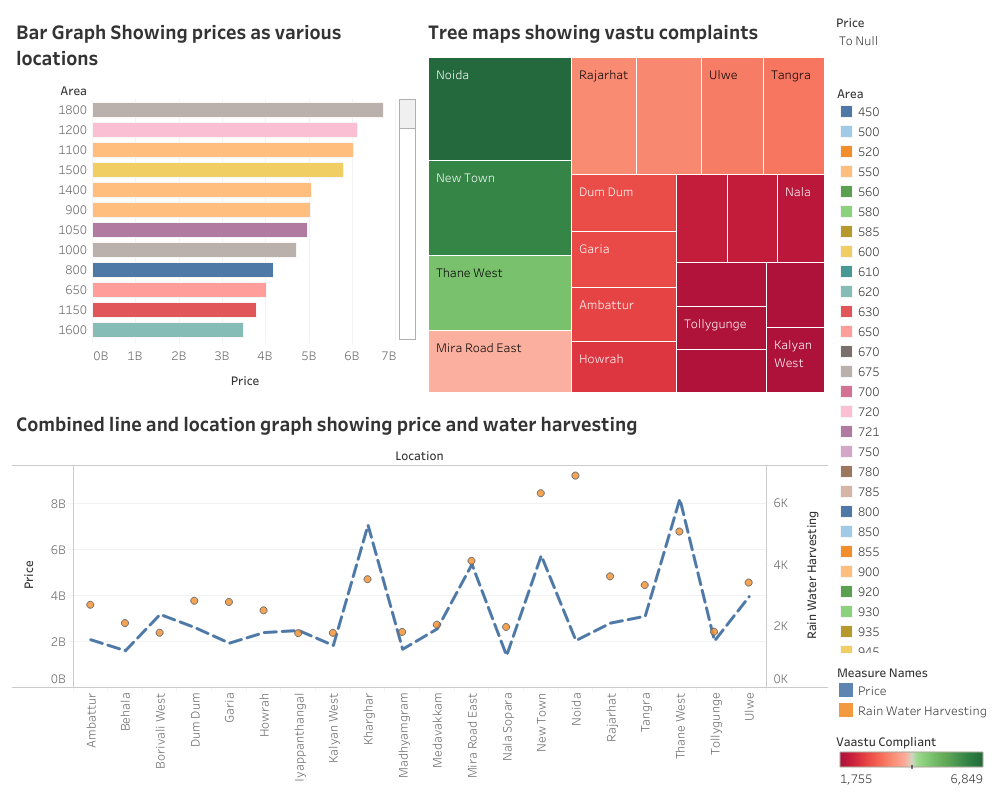

The dashboard page shown, as its layout file describes it:
{"tool":"tableau","page":{"name":"Dashboard 2","canvas":[1000,800],"ordinal":1},"visuals":[{"type":"worksheet","title":"Sheet 2","mark":"Automatic","rows":["Area"],"cols":["Price"],"box":[8,8,410,304]},{"type":"worksheet","title":"Sheet 4","mark":"Automatic","box":[418,8,410,304]},{"type":"filter","title":"Sheet 2","param":"[federated.17wmuzx0qbm0w31dm8loe1f24rbd].[sum:Price:qk]","box":[828,8,164,69]},{"type":"legend","title":"Sheet 2","param":"[federated.17wmuzx0qbm0w31dm8loe1f24rbd].[none:Area:ok]","box":[828,77,164,584]},{"type":"worksheet","title":"Sheet 3","mark":"Multipolygon","rows":["Price","RainWaterHarvesting"],"cols":["Location"],"box":[8,312,820,480]},{"type":"legend","title":"Sheet 3","param":"[federated.17wmuzx0qbm0w31dm8loe1f24rbd].[:Measure Names]","box":[828,661,164,66]},{"type":"legend","title":"Sheet 4","param":"[federated.17wmuzx0qbm0w31dm8loe1f24rbd].[sum:VaastuCompliant:qk]","box":[828,727,164,65]}]}

Visuals, with their boxes in screenshot pixels (x1, y1, x2, y2), scaled from the page's 1000x800 canvas onto the 999x799 screenshot:
"Sheet 2" worksheet: <bbox>8, 8, 418, 312</bbox>
"Sheet 4" worksheet: <bbox>418, 8, 827, 312</bbox>
"Sheet 2" filter: <bbox>827, 8, 991, 77</bbox>
"Sheet 2" legend: <bbox>827, 77, 991, 660</bbox>
"Sheet 3" worksheet (Multipolygon marks): <bbox>8, 312, 827, 791</bbox>
"Sheet 3" legend: <bbox>827, 660, 991, 726</bbox>
"Sheet 4" legend: <bbox>827, 726, 991, 791</bbox>
